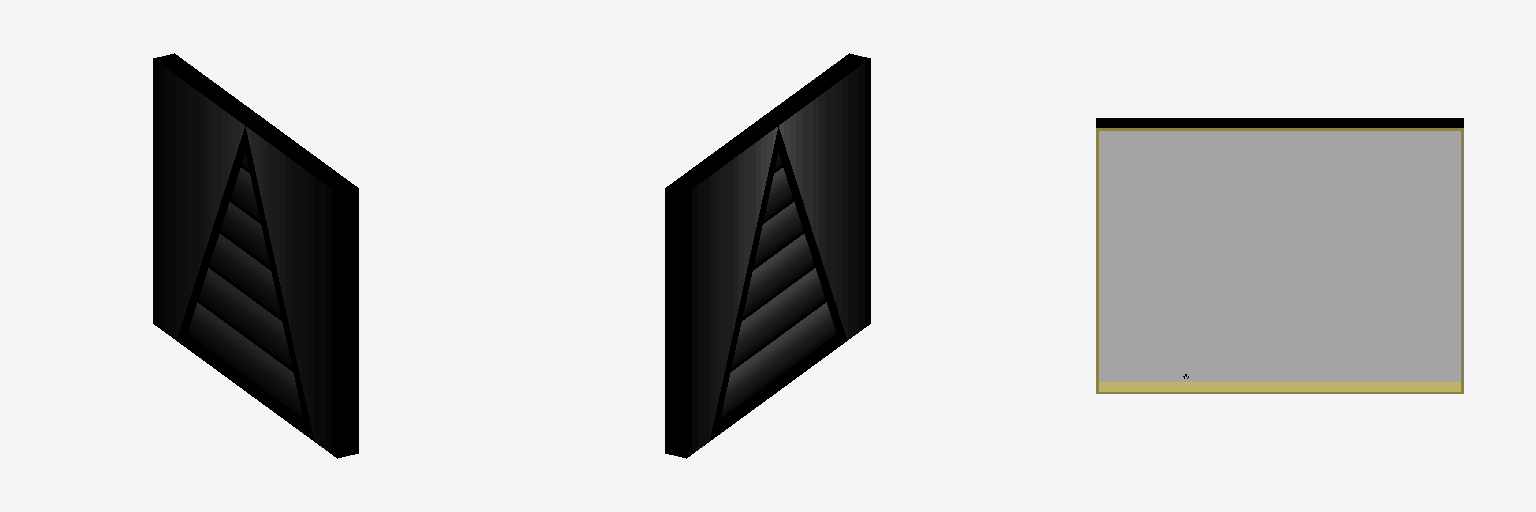
File: paintingHall2.obj
The picture shows the model from 3 angles: view 1: azimuth 30°, elevation 25°; view 2: azimuth 150°, elevation 25°; view 3: azimuth 270°, elevation 25°; orthographic projection.
Parts seen in each view (by area): view 1: Mesh1 paintingHall2_1 Model; view 2: Mesh1 paintingHall2_1 Model; view 3: Mesh1 paintingHall2_1 Model.
Part boxes in pixels (bbox=[...]): Mesh1 paintingHall2_1 Model: bbox=[153, 53, 358, 458]; Mesh1 paintingHall2_1 Model: bbox=[665, 53, 870, 458]; Mesh1 paintingHall2_1 Model: bbox=[1096, 118, 1463, 393].
Size of the model in its own units: 0.0841 by 1.01 by 1.27.